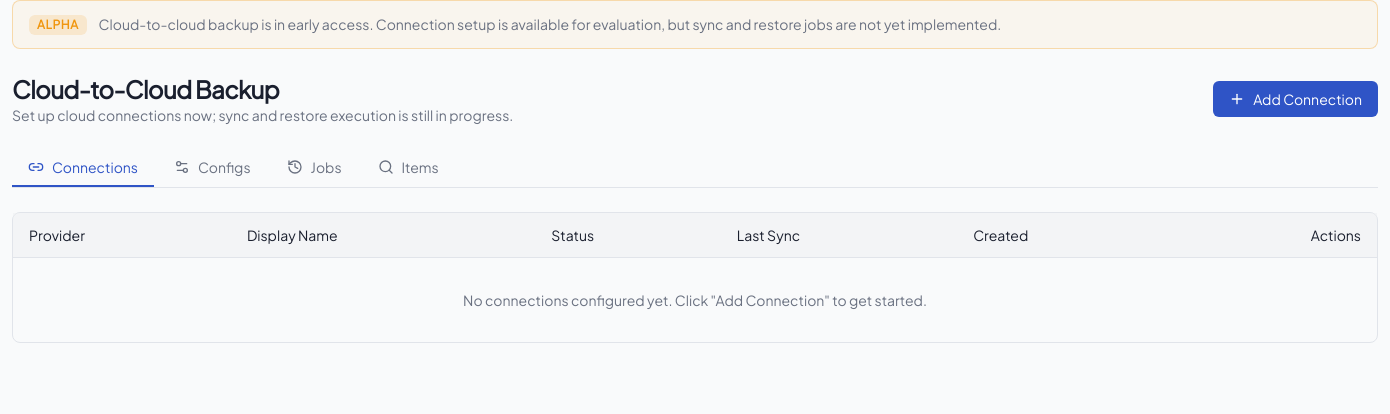
Test case: C2CDashboard › renders four tabs and empty states for each dataset
Expected: the text "No connections configured yet" is shown, [463, 291, 927, 309]
Expected: the button "Connections" is shown, [12, 149, 154, 187]
Click the button "Configs".
click(212, 168)  # box [158, 149, 266, 187]
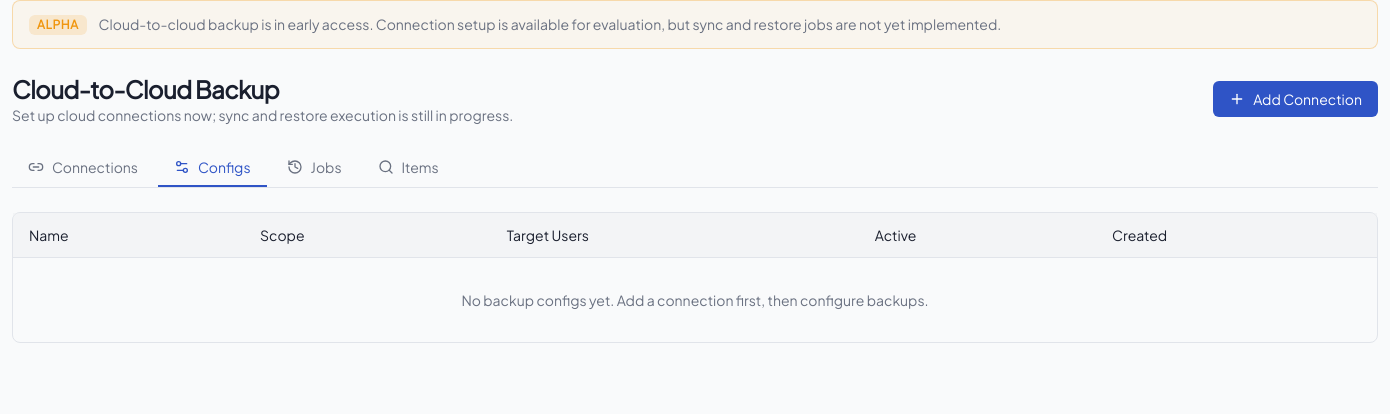
Expected: the text "No backup configs yet. Add a connection first, then configure backups." is shown, [13, 257, 1377, 342]
Click the button "Jobs".
click(314, 168)  # box [270, 149, 358, 187]
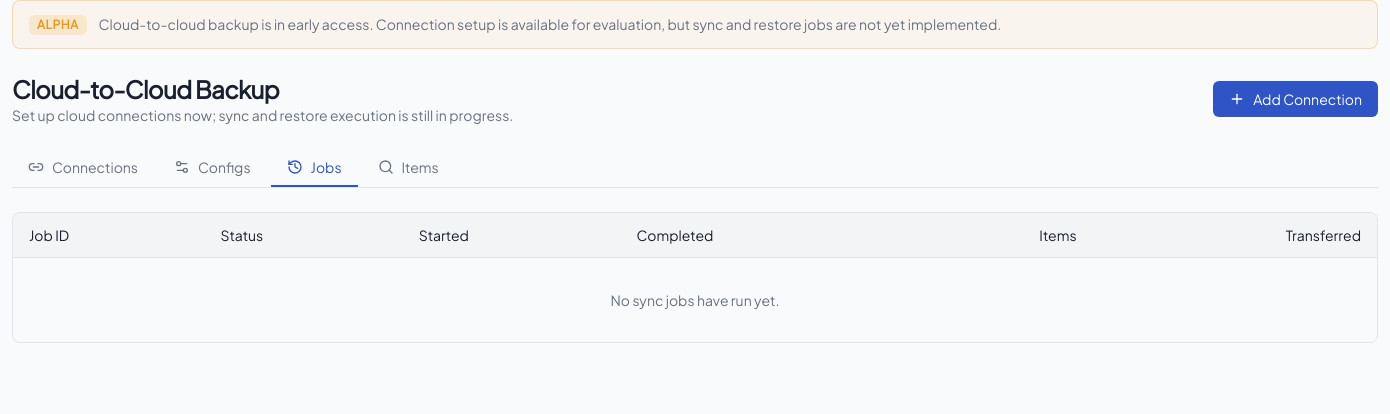
Expected: the text "No sync jobs have run yet." is shown, [13, 257, 1377, 342]
Click the button "Items".
click(408, 168)  # box [362, 149, 455, 187]
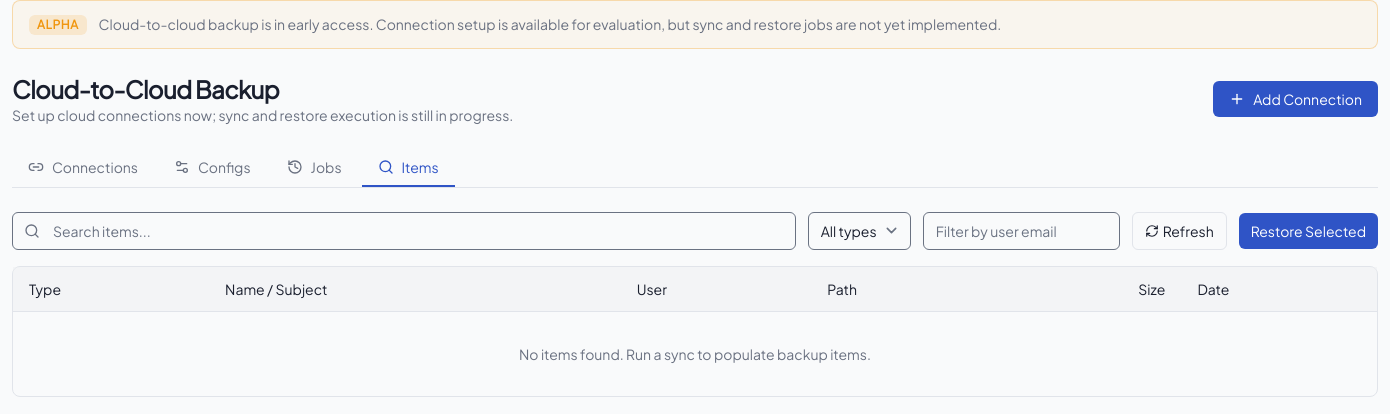
Expected: the text "No items found. Run a sync to populate backup items." is shown, [13, 311, 1377, 396]
